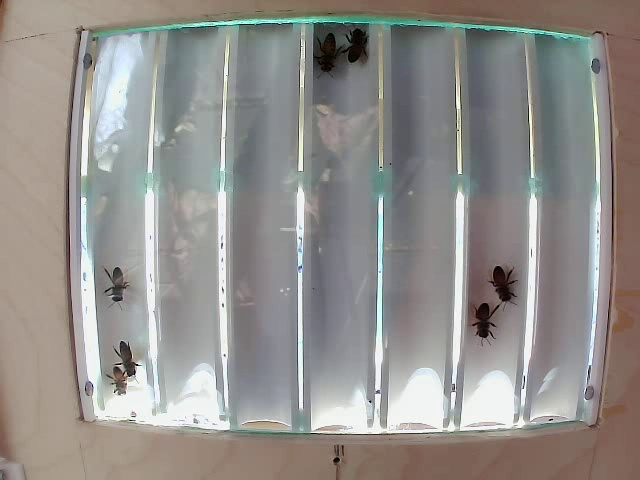bee: (483, 256, 526, 309), (341, 15, 369, 74), (471, 297, 497, 349), (121, 336, 148, 385), (312, 26, 337, 77), (101, 270, 125, 309)
